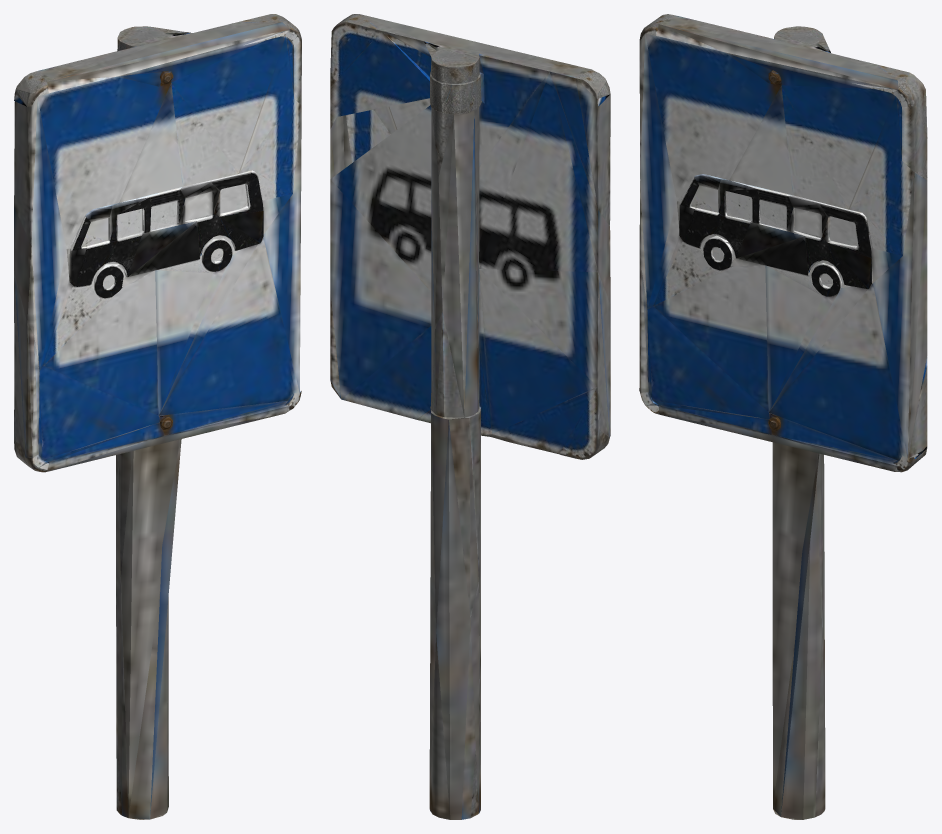
Rendered from Sign_Bus_Stop_1500.glb.
3 views of the same model, side by side, from view 1: azimuth 30°, elevation 25°; view 2: azimuth 150°, elevation 25°; view 3: azimuth 330°, elevation 25° (orthographic). The views are drawn at different scales.
Parts seen in each view (by area): view 1: output_unwrapped; view 2: output_unwrapped; view 3: output_unwrapped.
Boxes of the visible parts, bbox=[...] form: output_unwrapped: bbox=[14, 14, 301, 819]; output_unwrapped: bbox=[330, 14, 610, 819]; output_unwrapped: bbox=[639, 14, 927, 819].
Size of the model in its own units: 0.9694 by 2.6 by 0.2377.
1 material, 1 textured.
